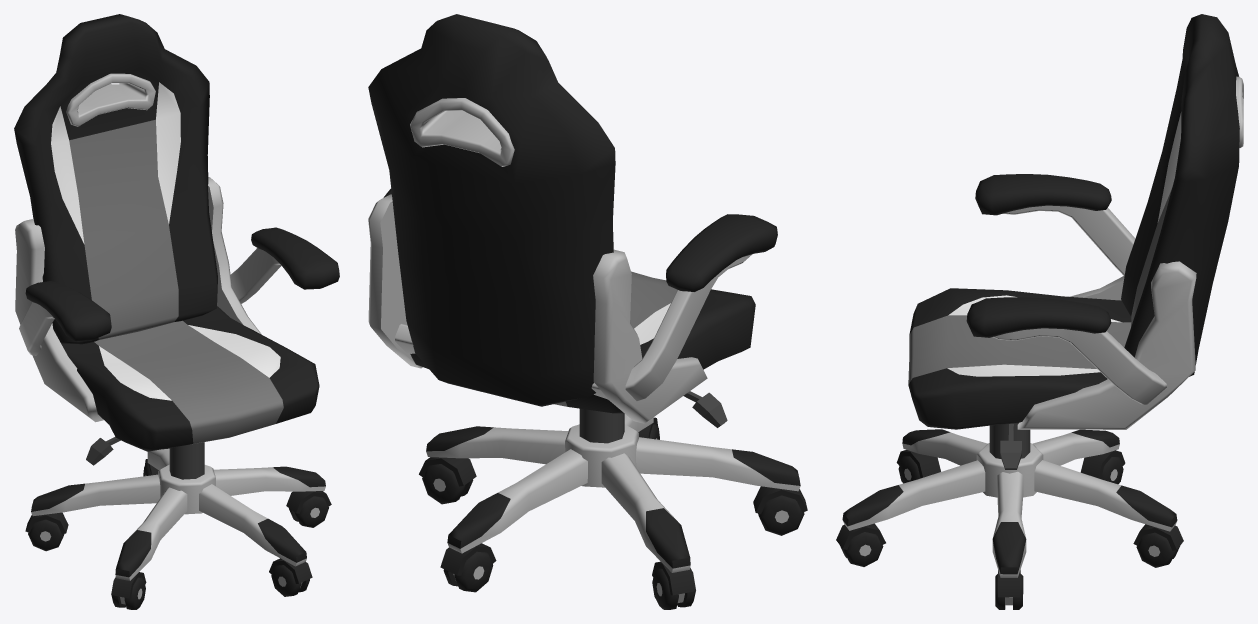
The model's file is chair_044.fbx.
3 renders of one model, left to right at view 1: azimuth 30°, elevation 25°; view 2: azimuth 150°, elevation 25°; view 3: azimuth 270°, elevation 25°, orthographic. The views are drawn at different scales.
Parts seen in each view (by area): view 1: chair_044; view 2: chair_044; view 3: chair_044.
Part boxes in pixels (<box>): chair_044: <box>14,14,339,609</box>; chair_044: <box>368,14,807,609</box>; chair_044: <box>836,14,1243,609</box>.
Size of the model in its own units: 92.76 by 110 by 154.
